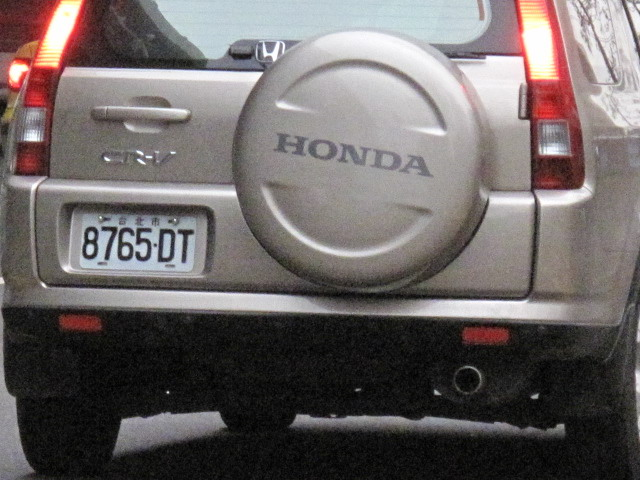plate: (79, 209, 199, 273)
